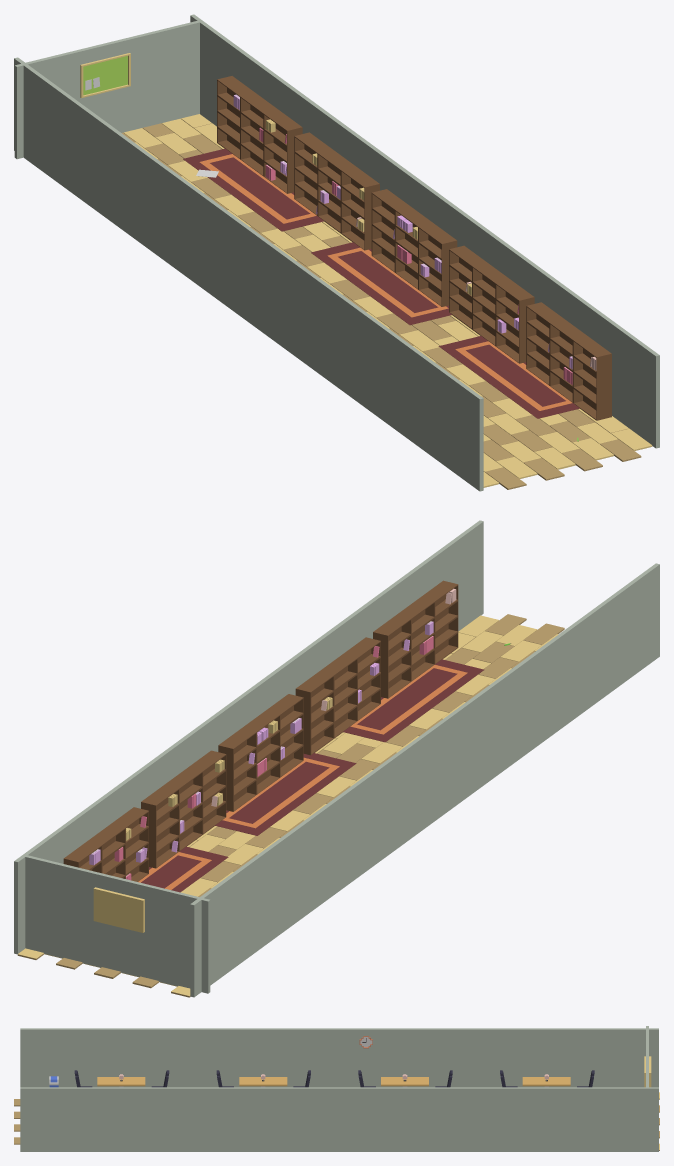
Rendered from Stage5-.fbx.
The picture shows the model from 3 angles, top to bottom: view 1: azimuth 30°, elevation 25°; view 2: azimuth 150°, elevation 25°; view 3: azimuth 270°, elevation 25°; orthographic projection. The views are drawn at different scales.
Visible parts, largest first — view 1: Cube.016, Cube.001, Cube, Plane.003, Cube.017, Cube.010, Cube.041; view 2: Cube.016, Cube.001, Cube.017, Cube, Plane.003, Cube.041, Cube.010; view 3: Cube.016, Cube.007, Cube.
Boxes of the visible parts, x1,y1,x2,y2 form: Cube.016: (14,14,659,491); Cube.001: (217,76,611,420); Cube: (123,114,652,489); Plane.003: (183,148,579,418); Cube.017: (14,20,202,159); Cube.010: (122,132,575,469); Cube.041: (80,53,130,98); Cube.016: (14,520,659,997); Cube.001: (63,580,458,881); Cube.017: (22,854,210,993); Cube: (17,614,564,997); Plane.003: (138,659,484,892); Cube.041: (93,887,144,932); Cube.010: (94,634,558,978); Cube.016: (20,1028,658,1151); Cube.007: (74,1070,594,1087); Cube: (14,1092,659,1150).
Size of the model in its own units: 1611 by 767 by 7037.
